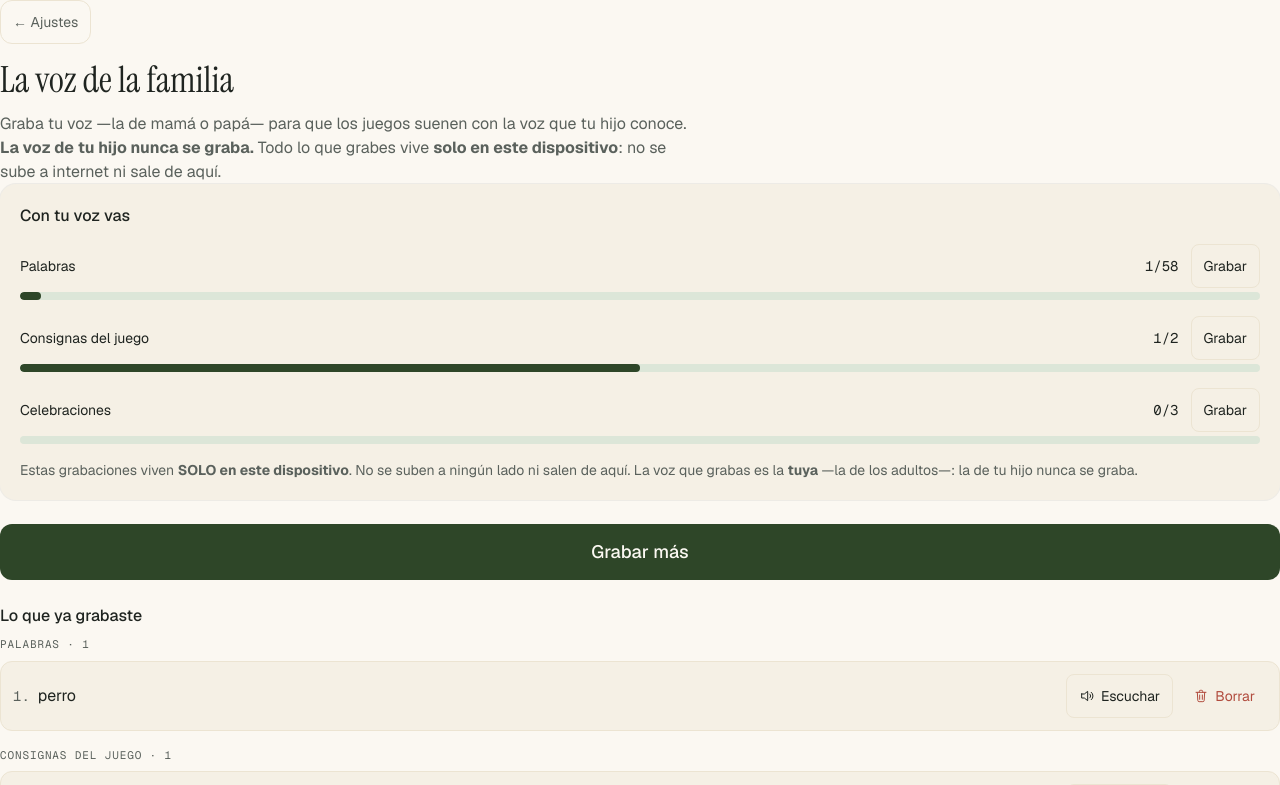
it: EstudioCliente — vista de gestión (banco de voz) › «Borrar» pide un segundo toque: «¿Seguro?» primero, y solo entonces borra
Primer toque: arma la confirmación — NADA se borra todavía (gate S4, J5).
Click the button "Borrar" in the row of "perro" at (1224, 696), box [1181, 674, 1267, 718]
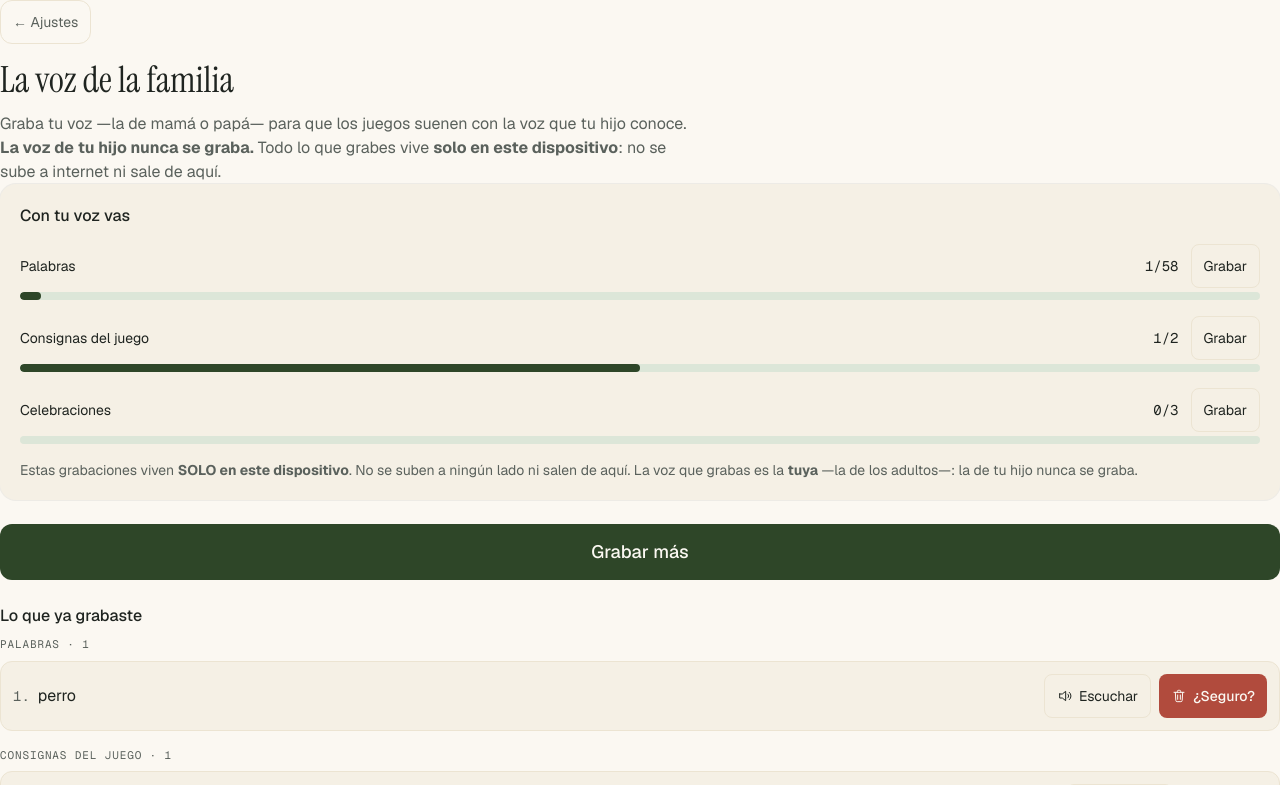
Segundo toque: efecto de despedida y borrado real.
Click the button "¿Seguro?" at (1213, 696), box [1159, 674, 1267, 718]
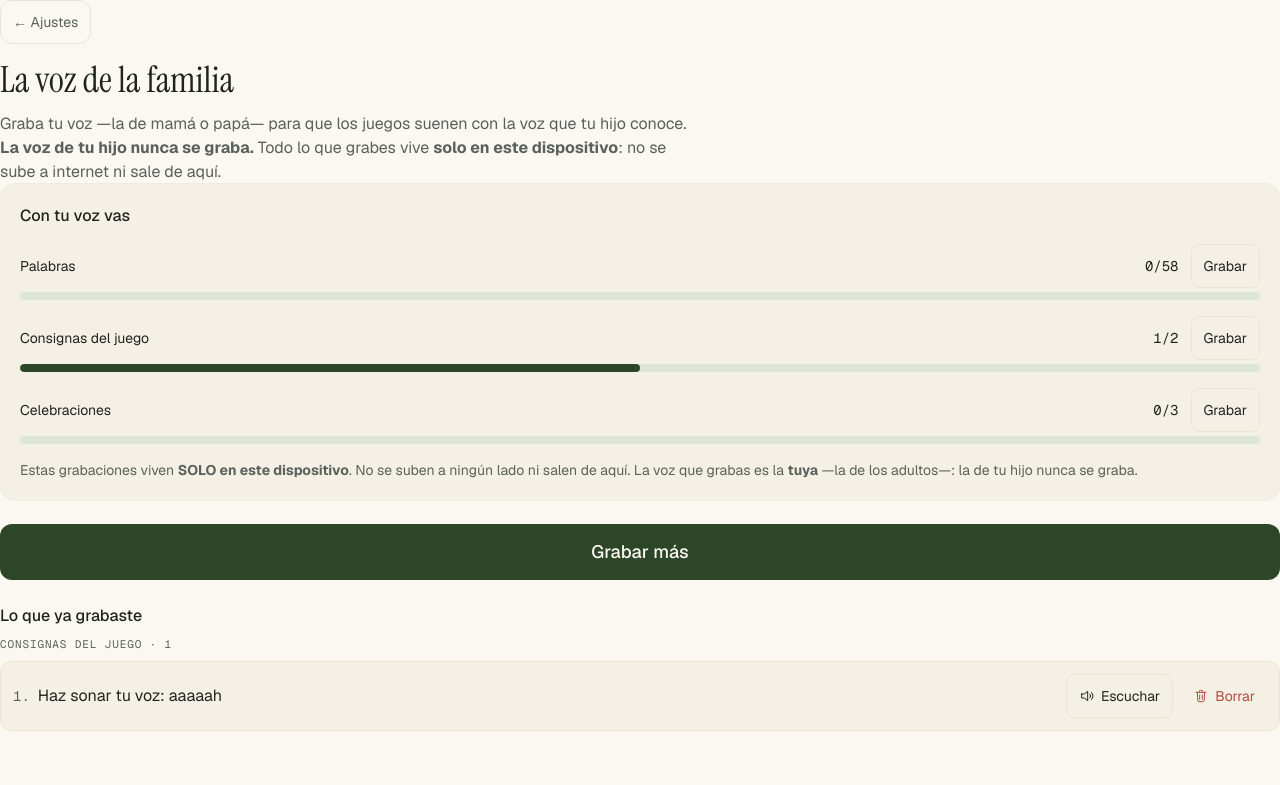
Expected: the text "perro" is gone
